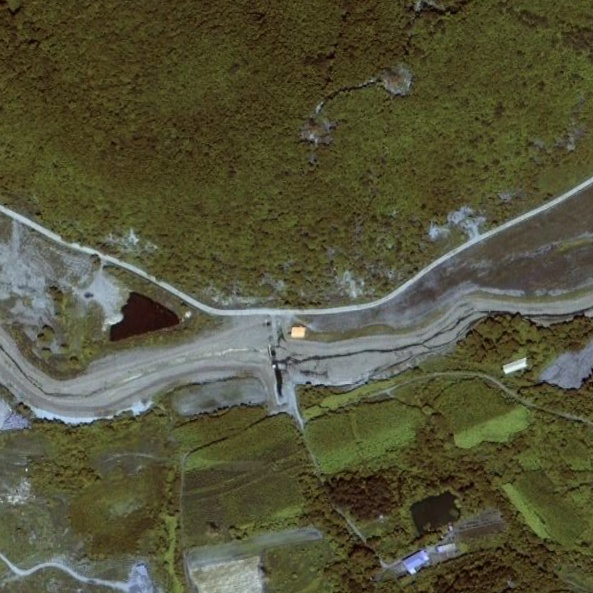slope: (537, 336, 592, 389), (431, 204, 486, 241)
